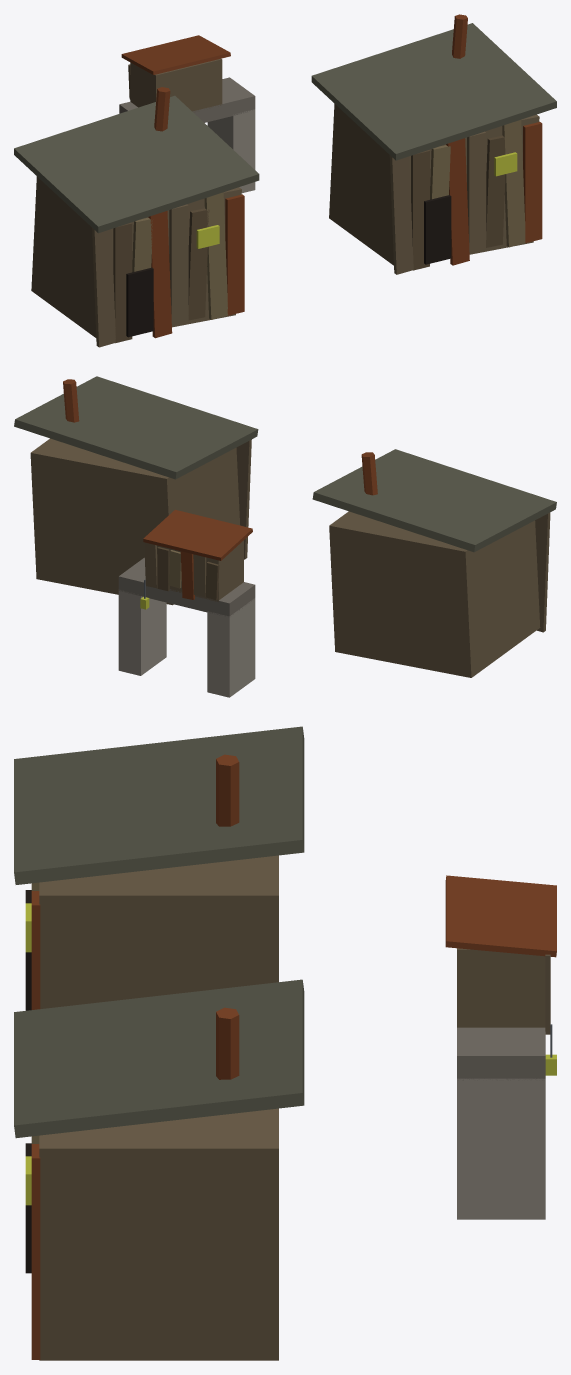
Rendered from ratfolk_row.glb.
The picture shows the model from 3 angles, top to bottom: view 1: azimuth 30°, elevation 25°; view 2: azimuth 150°, elevation 25°; view 3: azimuth 270°, elevation 25°; orthographic projection. The views are drawn at different scales.
Visible parts, largest first — view 1: ratfolk_row; view 2: ratfolk_row; view 3: ratfolk_row.
Part boxes in pixels (bbox=[...]): ratfolk_row: bbox=[14, 14, 556, 347]; ratfolk_row: bbox=[14, 376, 556, 697]; ratfolk_row: bbox=[14, 726, 556, 1360].
Bounding box in the file's own units: 5.42 × 2.16 × 3.17.
